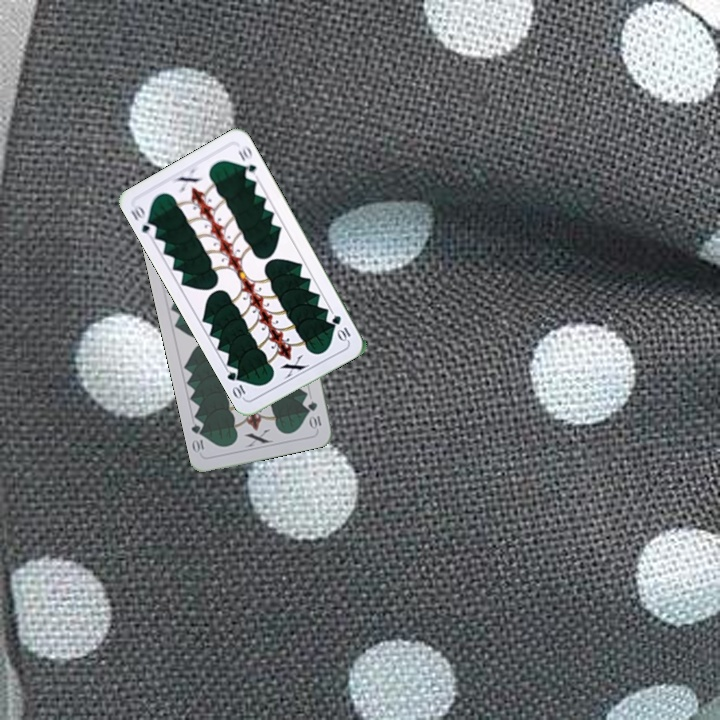G10: (126, 202, 160, 236), (328, 311, 353, 344), (304, 397, 324, 431)
